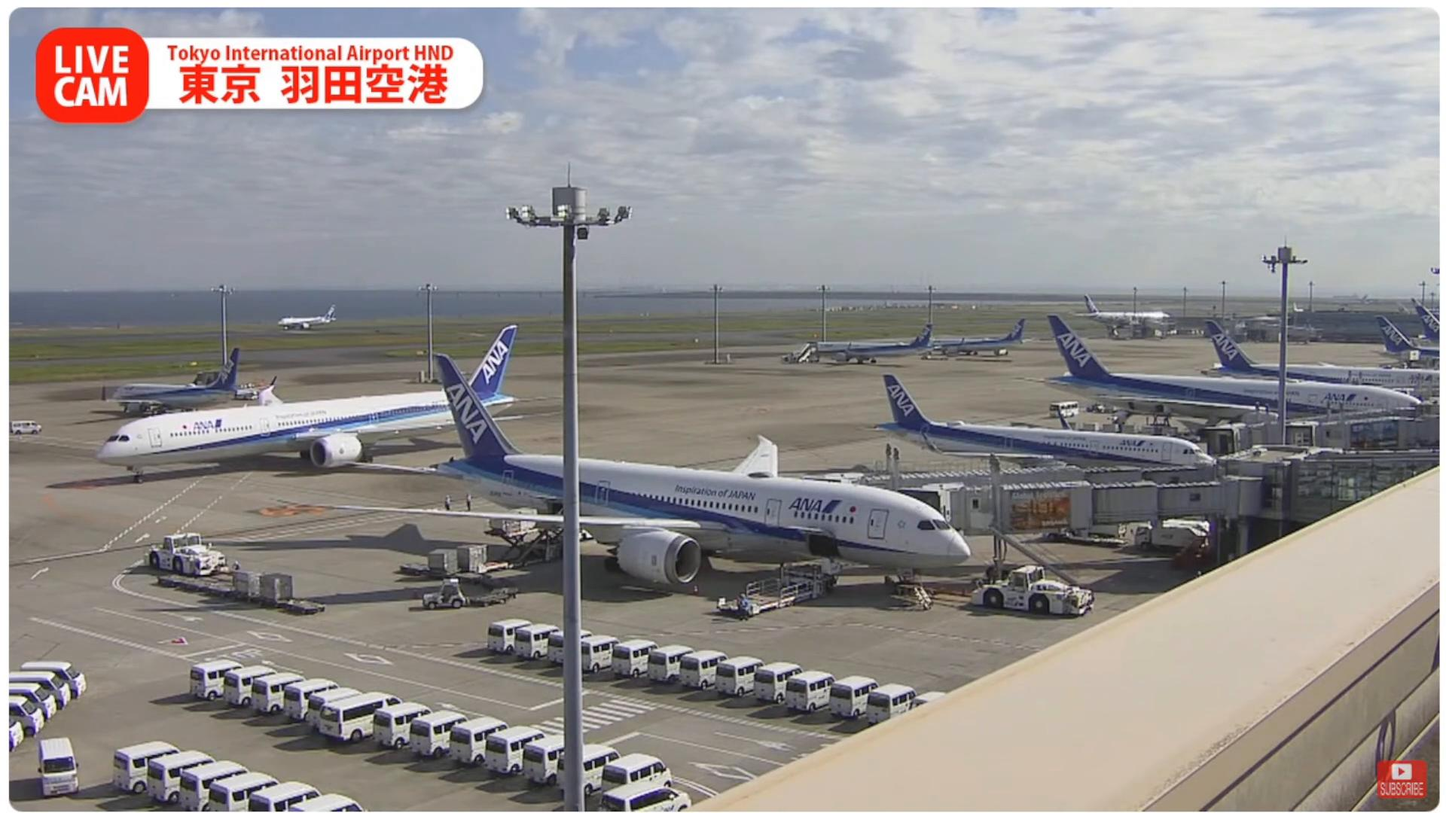APS: (971, 562, 1095, 617)
Aerobridge: (893, 452, 1263, 585), (804, 443, 1218, 487)
Airplane: (276, 351, 973, 594)
Dolly: (157, 574, 326, 616), (400, 561, 517, 606)
JCPL: (717, 560, 840, 616), (484, 527, 562, 571)
Tractor: (423, 580, 466, 608)
ULD: (488, 507, 537, 532), (232, 568, 266, 595), (260, 572, 293, 599), (457, 543, 487, 570), (428, 548, 457, 573)
Window: (1297, 458, 1440, 522)
